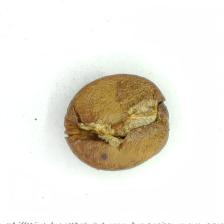NG: (77, 90, 162, 148)
